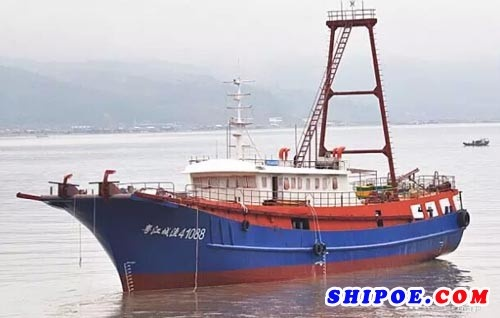airplane: (11, 115, 467, 299)
